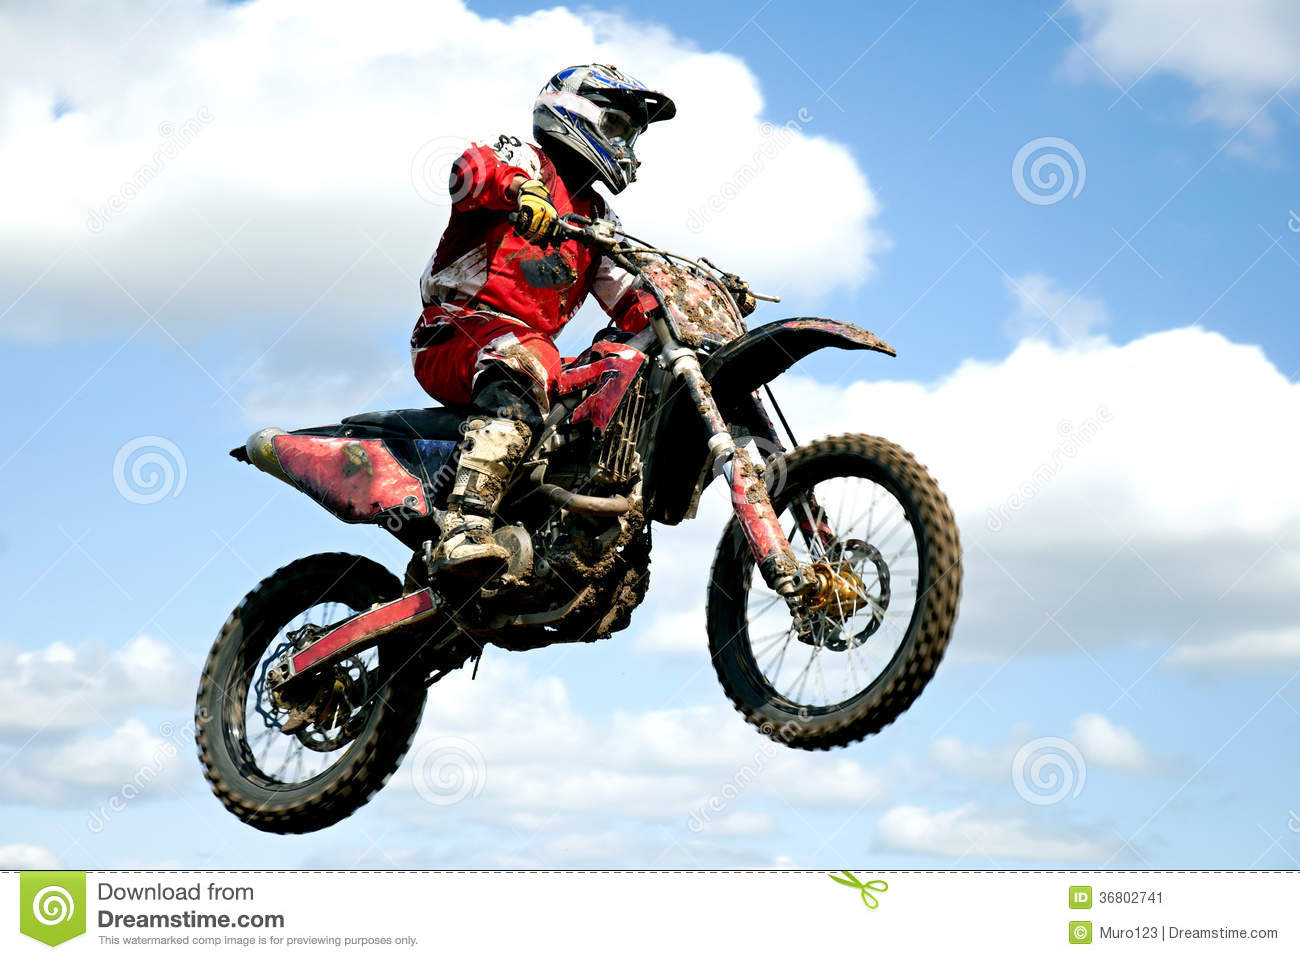helmet: (533, 52, 670, 171)
